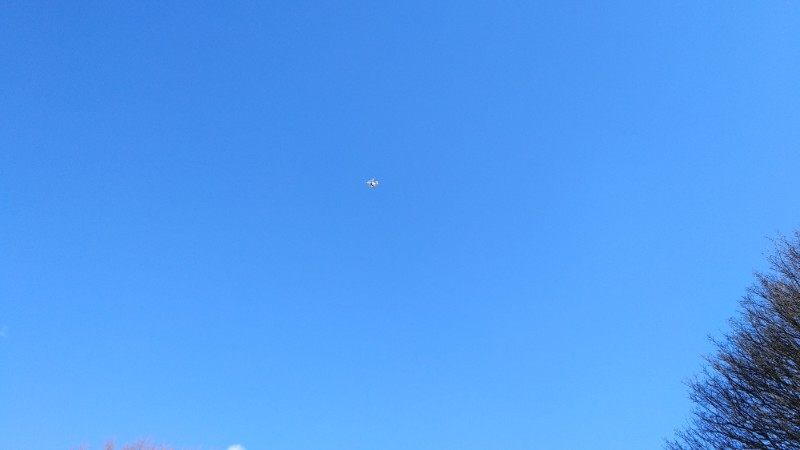drone: (366, 178, 379, 187)
